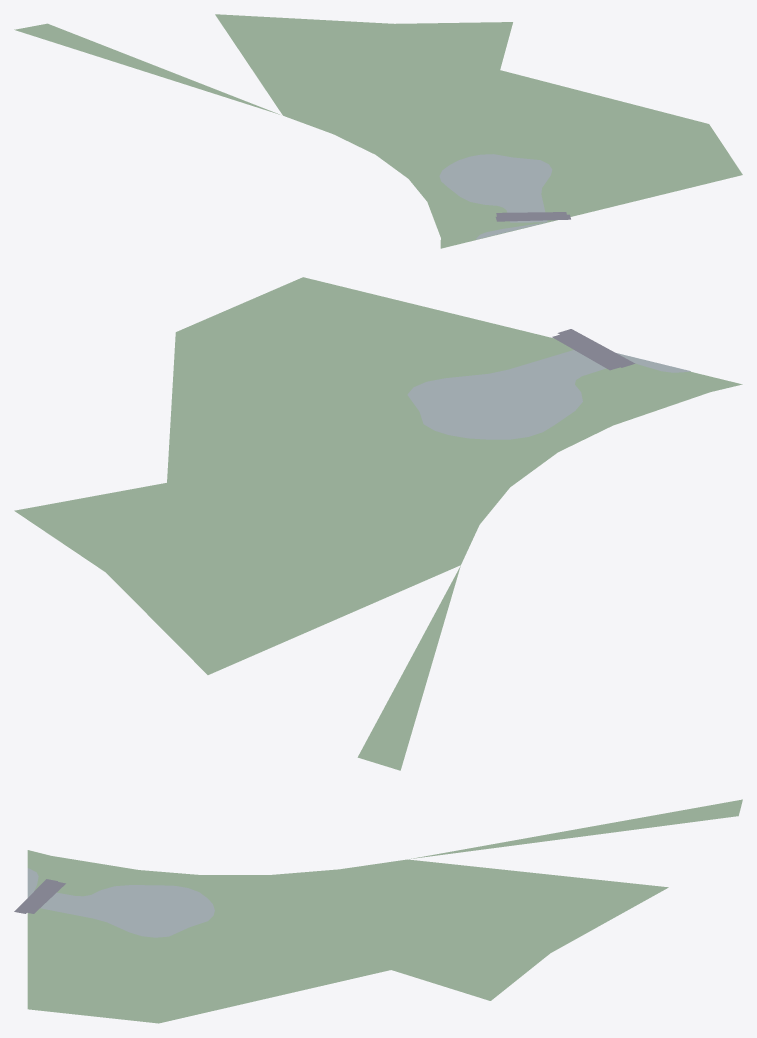
Rendered from 138_117_mid.glb.
3 views of the same model, one above another, from view 1: azimuth 30°, elevation 25°; view 2: azimuth 150°, elevation 25°; view 3: azimuth 270°, elevation 25° (orthographic). The views are drawn at different scales.
Bounding box in the file's own units: 288 × 3.12 × 396.
